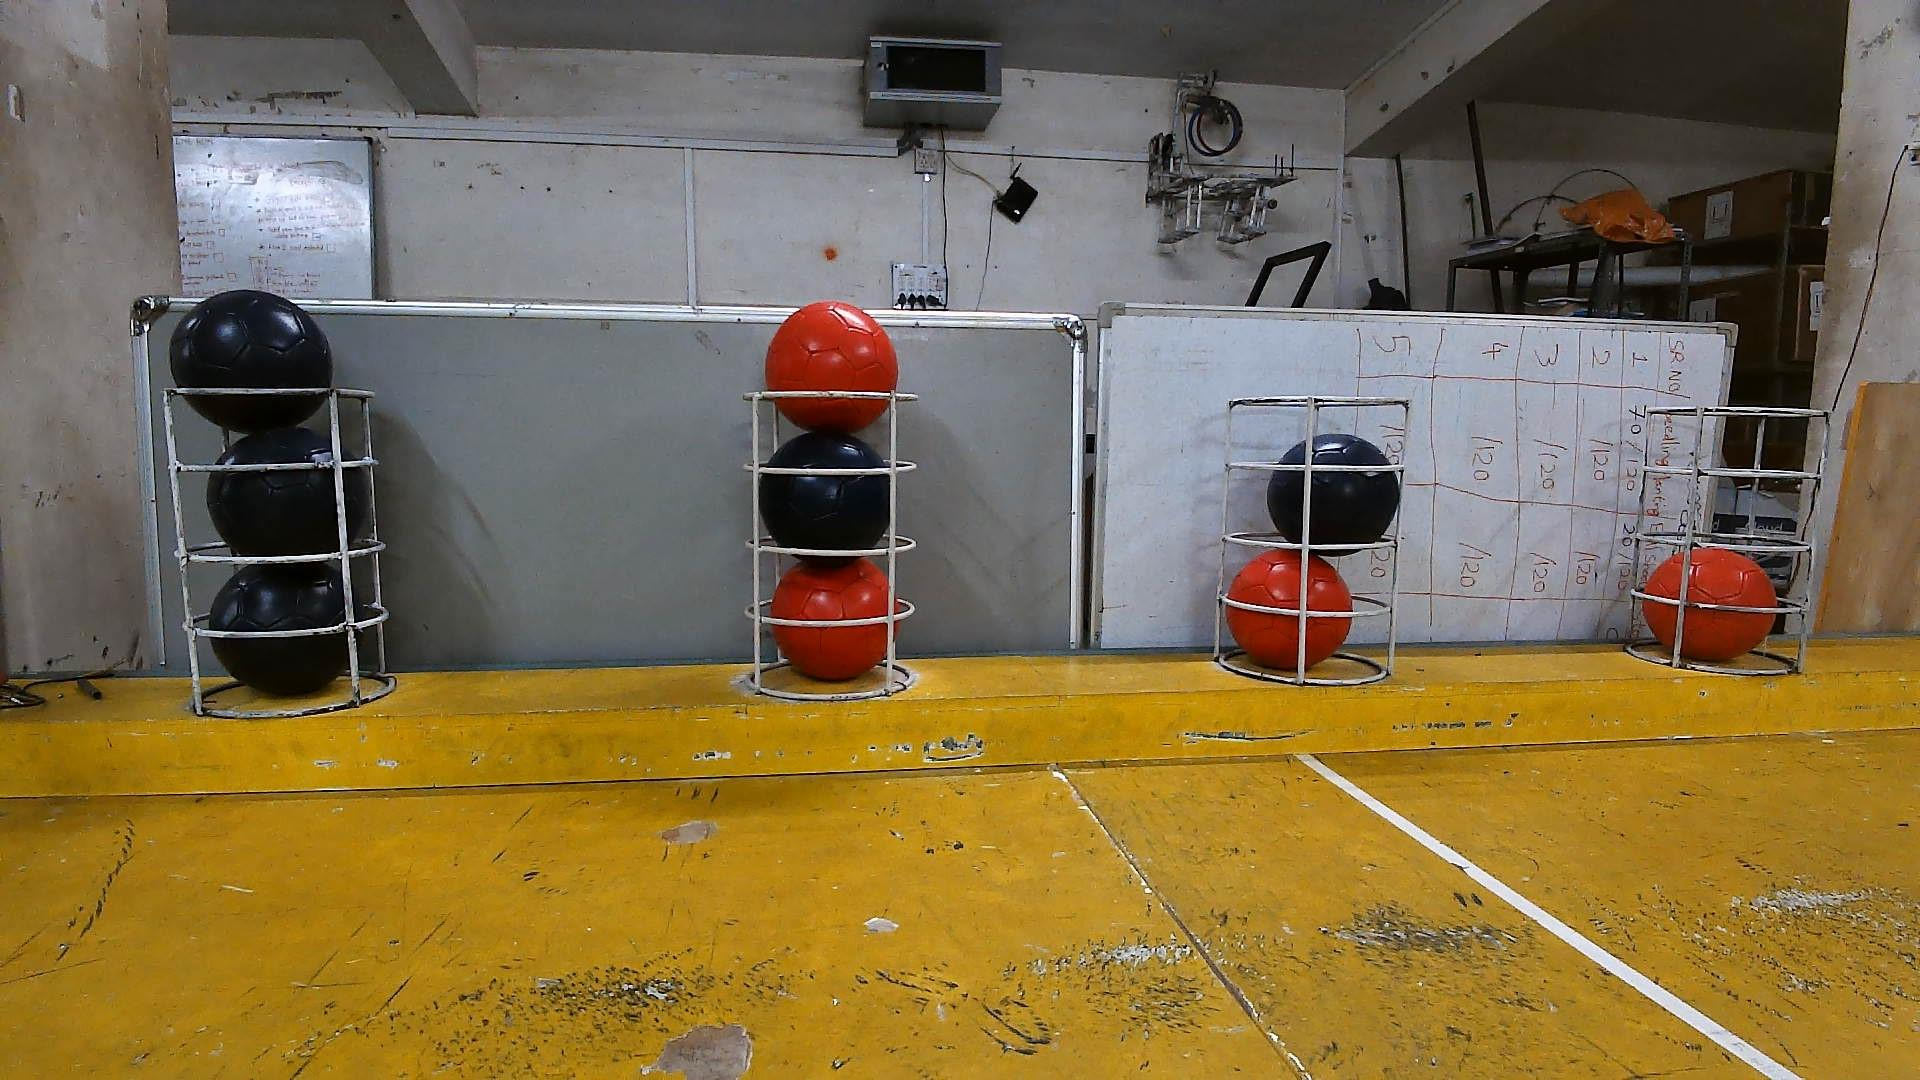dhoka: (161, 285, 330, 435), (196, 566, 359, 700), (208, 426, 367, 562), (757, 427, 889, 551), (1267, 431, 1403, 546)
laale: (769, 301, 903, 431), (1226, 549, 1354, 673), (773, 559, 899, 683), (1635, 547, 1770, 661)
